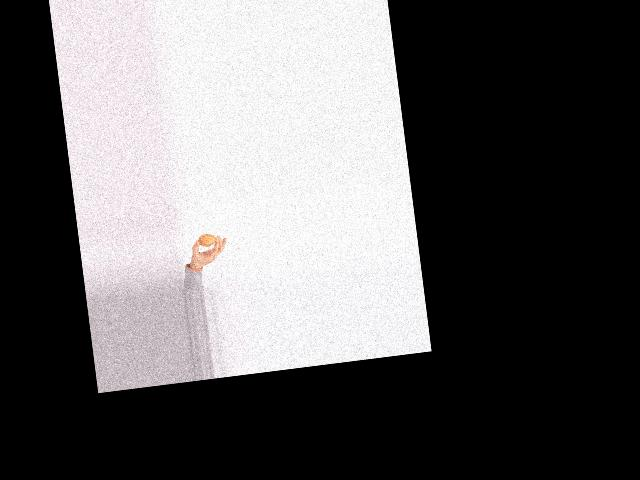egg: (197, 232, 216, 246)
